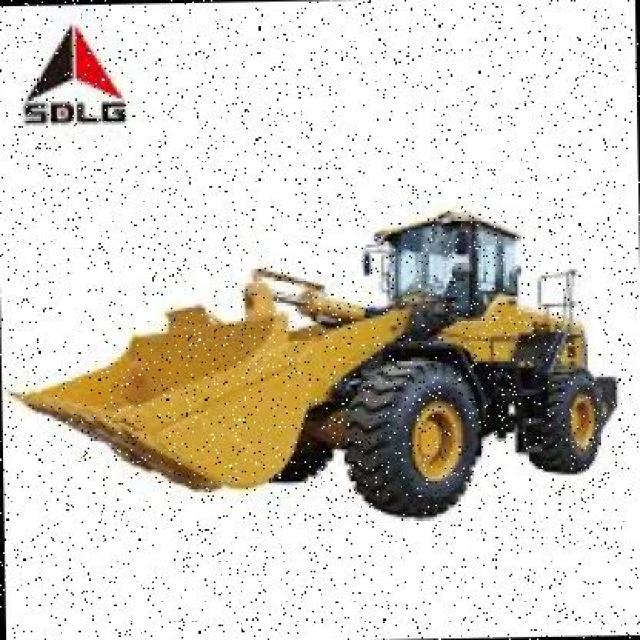buldozerpayloadergrader: (15, 204, 636, 524)
